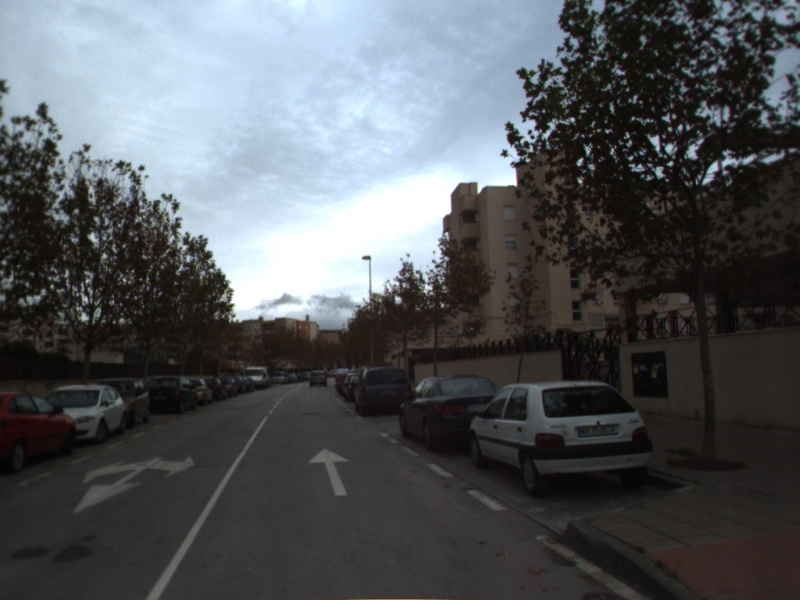STRAIGHT: (306, 446, 351, 498)
